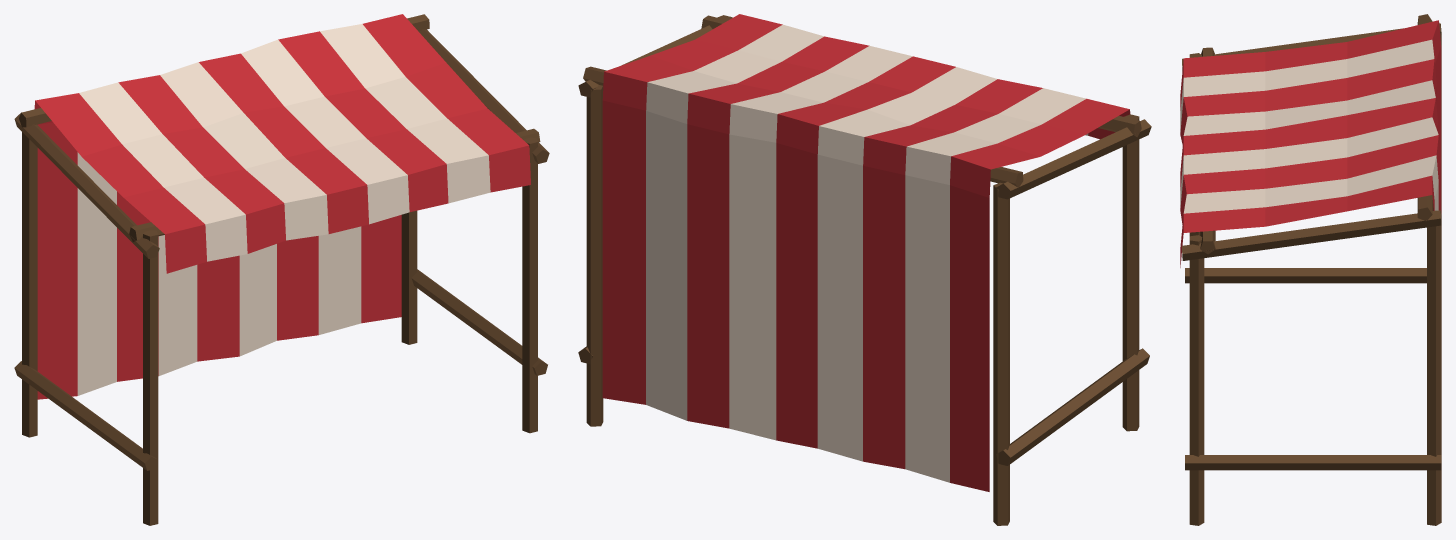
File: medieval_marketplace-stand_simple.fbx
3 renders of one model, left to right at view 1: azimuth 30°, elevation 25°; view 2: azimuth 150°, elevation 25°; view 3: azimuth 270°, elevation 25°, orthographic. The views are drawn at different scales.
Visible parts, largest first — view 1: medieval_marketplace_stand_simple; view 2: medieval_marketplace_stand_simple; view 3: medieval_marketplace_stand_simple.
Part boxes in pixels (bbox=[...]): medieval_marketplace_stand_simple: bbox=[14, 14, 549, 525]; medieval_marketplace_stand_simple: bbox=[578, 14, 1151, 525]; medieval_marketplace_stand_simple: bbox=[1180, 14, 1441, 525].
Bounding box in the file's own units: 200 × 157 × 114.
